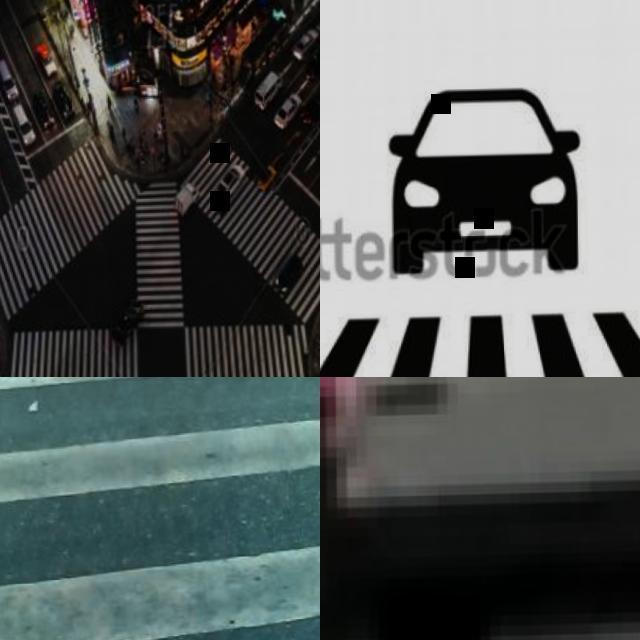car: (0, 45, 136, 324), (133, 0, 244, 89)
